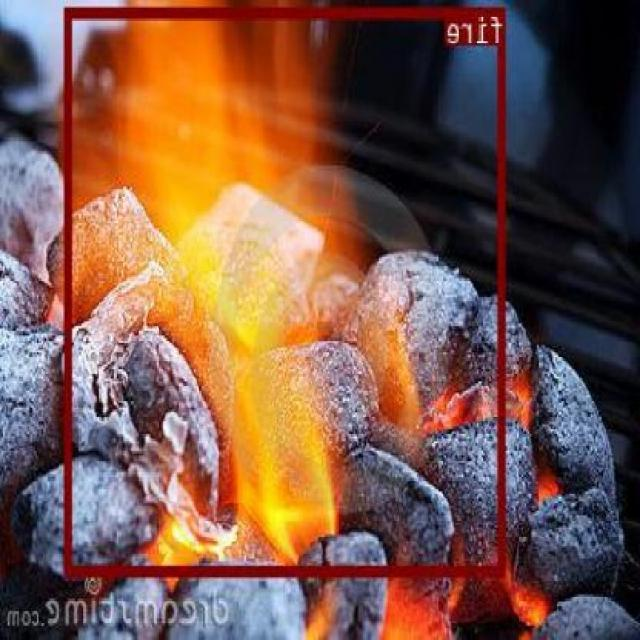fire: (66, 7, 506, 576)
